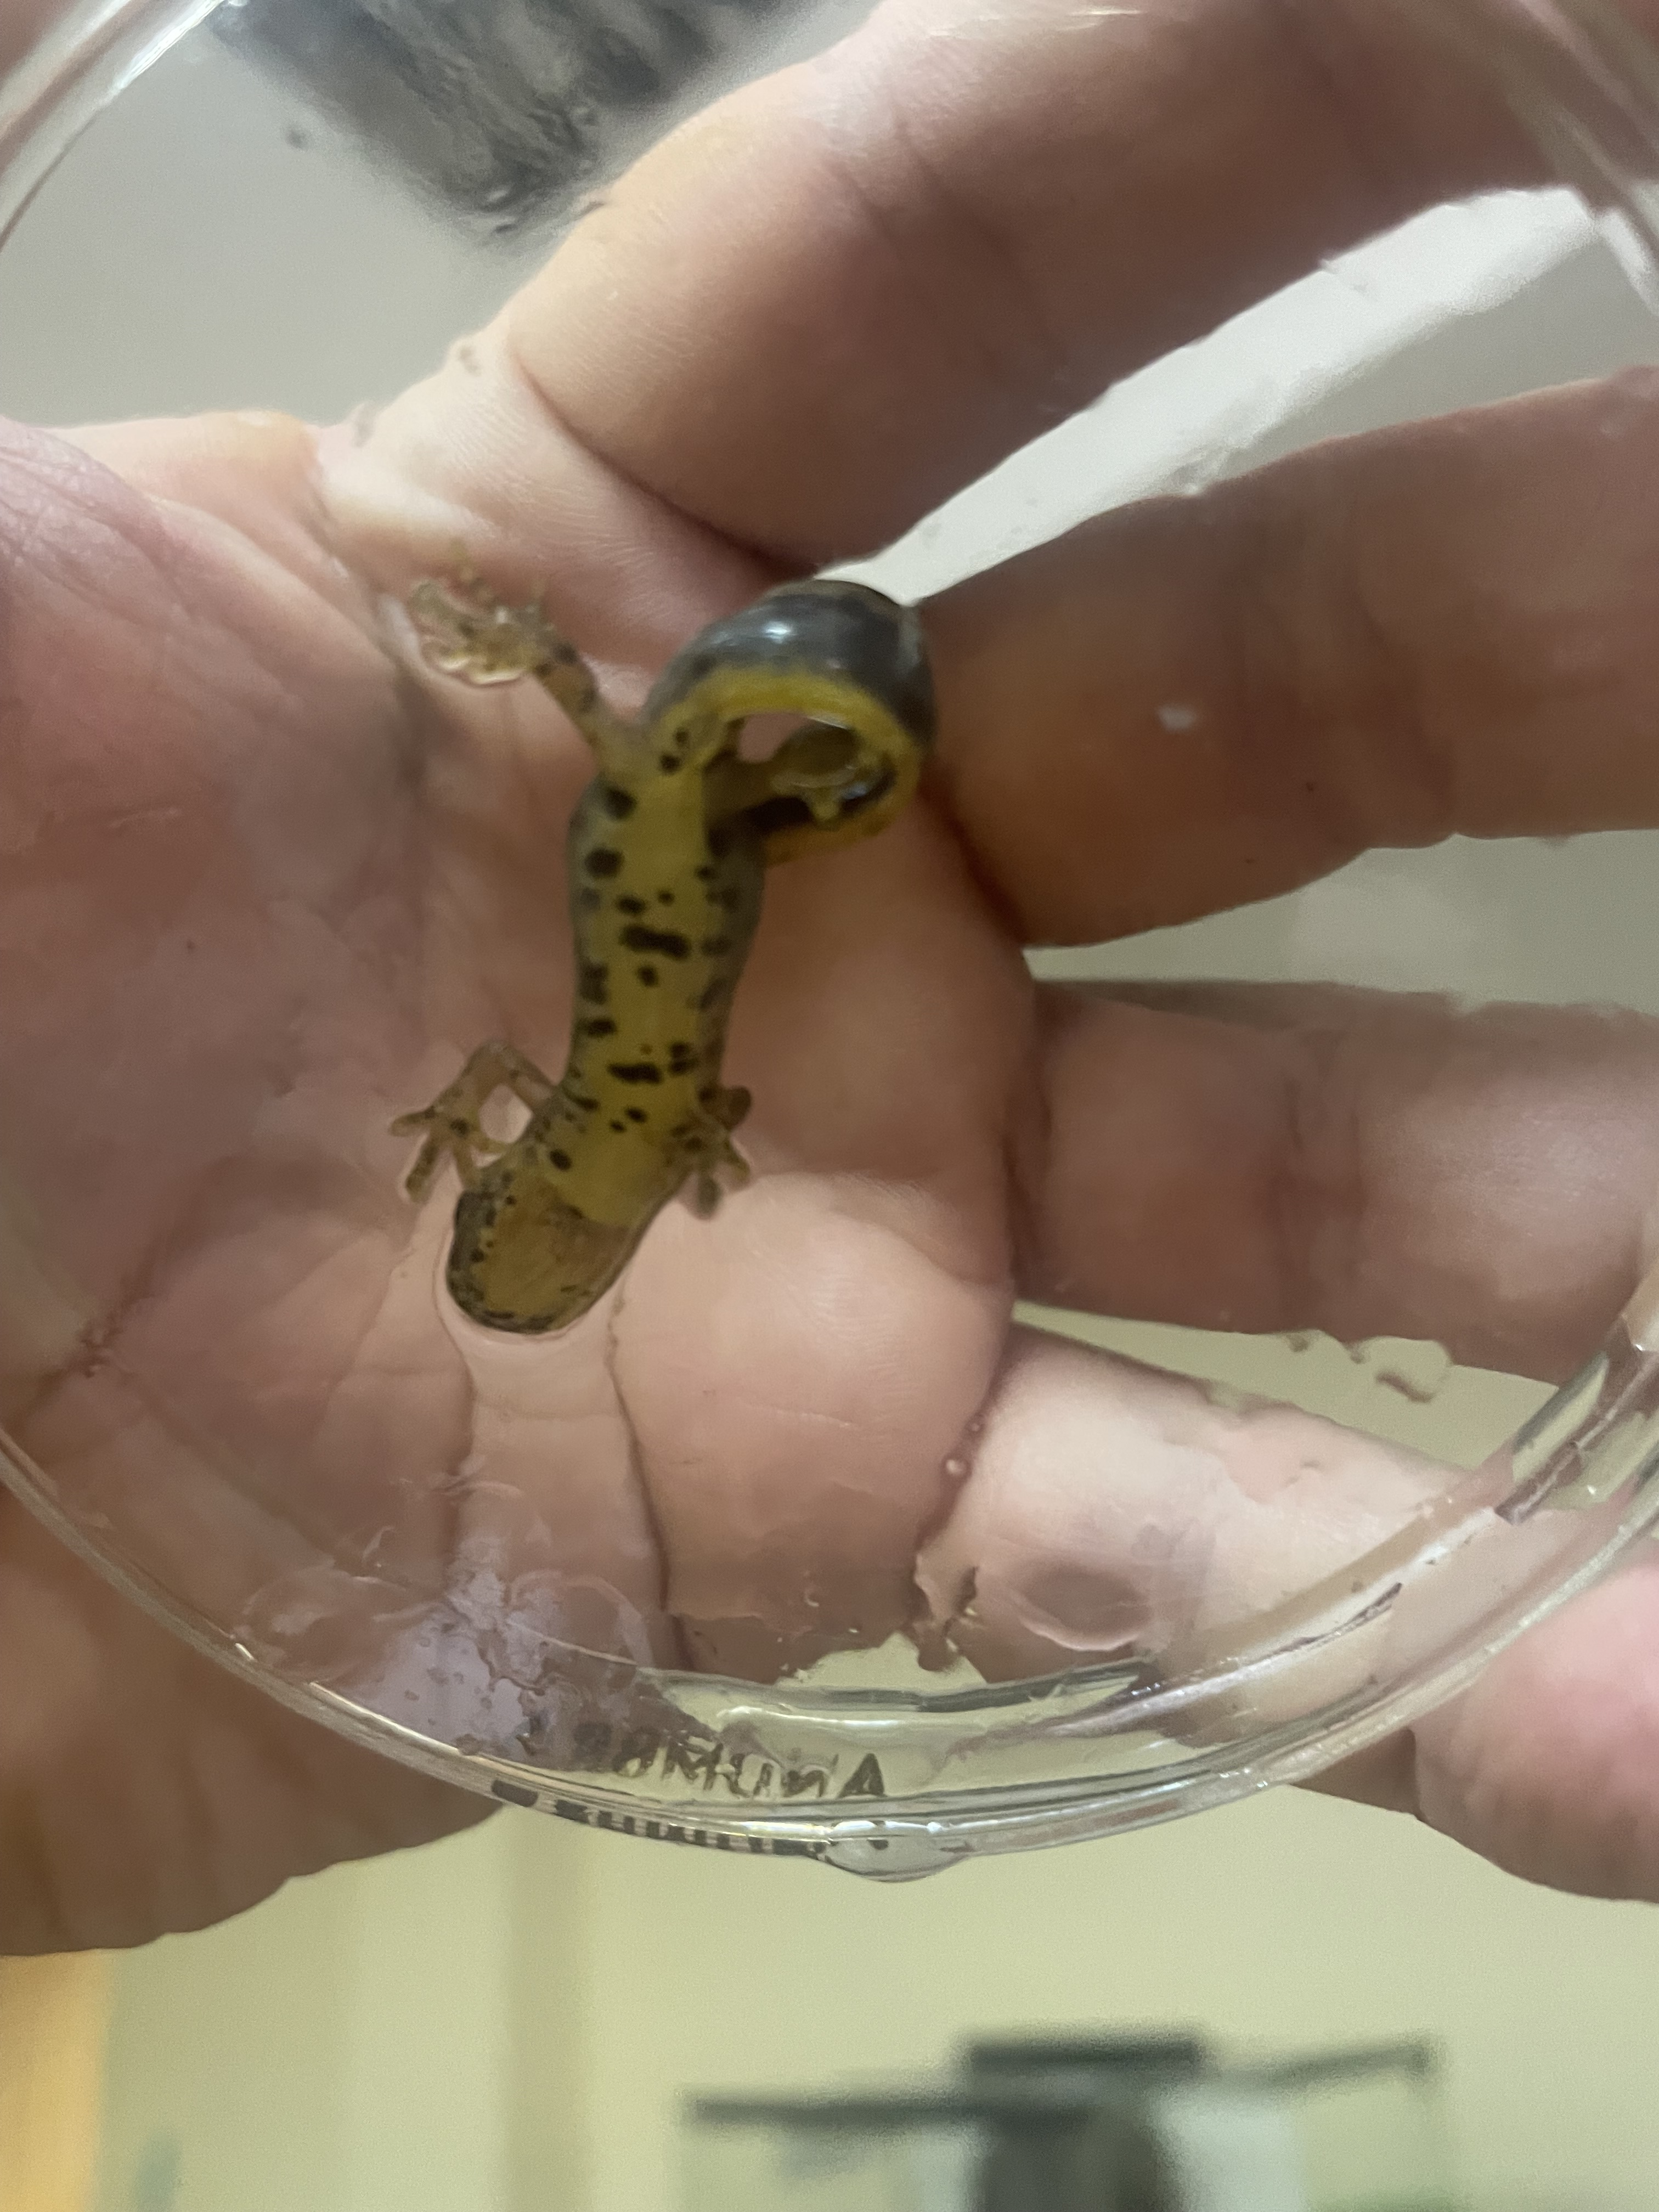Karelin_newt: (556, 775, 769, 1083)
